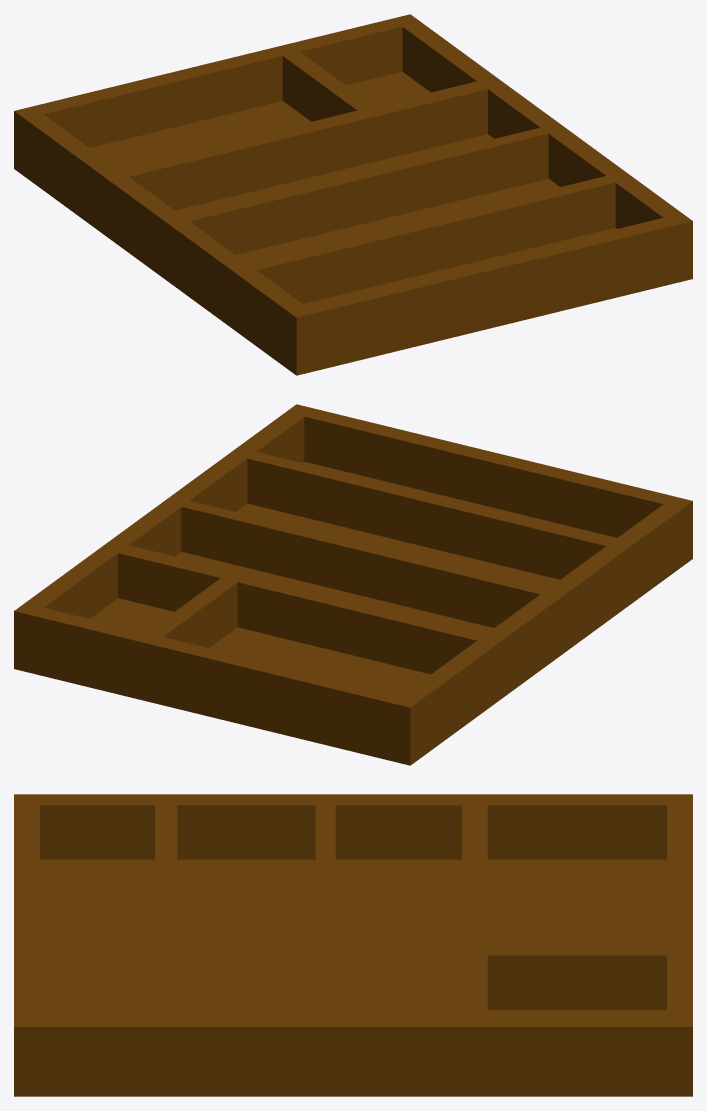
The model's file is _utlry_Box.fbx.
3 renders of one model, top to bottom at view 1: azimuth 30°, elevation 25°; view 2: azimuth 150°, elevation 25°; view 3: azimuth 270°, elevation 25°, orthographic. The views are drawn at different scales.
Visible parts, largest first — view 1: Cube.134; view 2: Cube.134; view 3: Cube.134.
Part boxes in pixels (x1,y1,x2,y2): Cube.134: (14, 14, 692, 375); Cube.134: (14, 404, 692, 765); Cube.134: (14, 794, 692, 1096).
Bounding box in the file's own units: 45.39 × 6.34 × 56.05.
